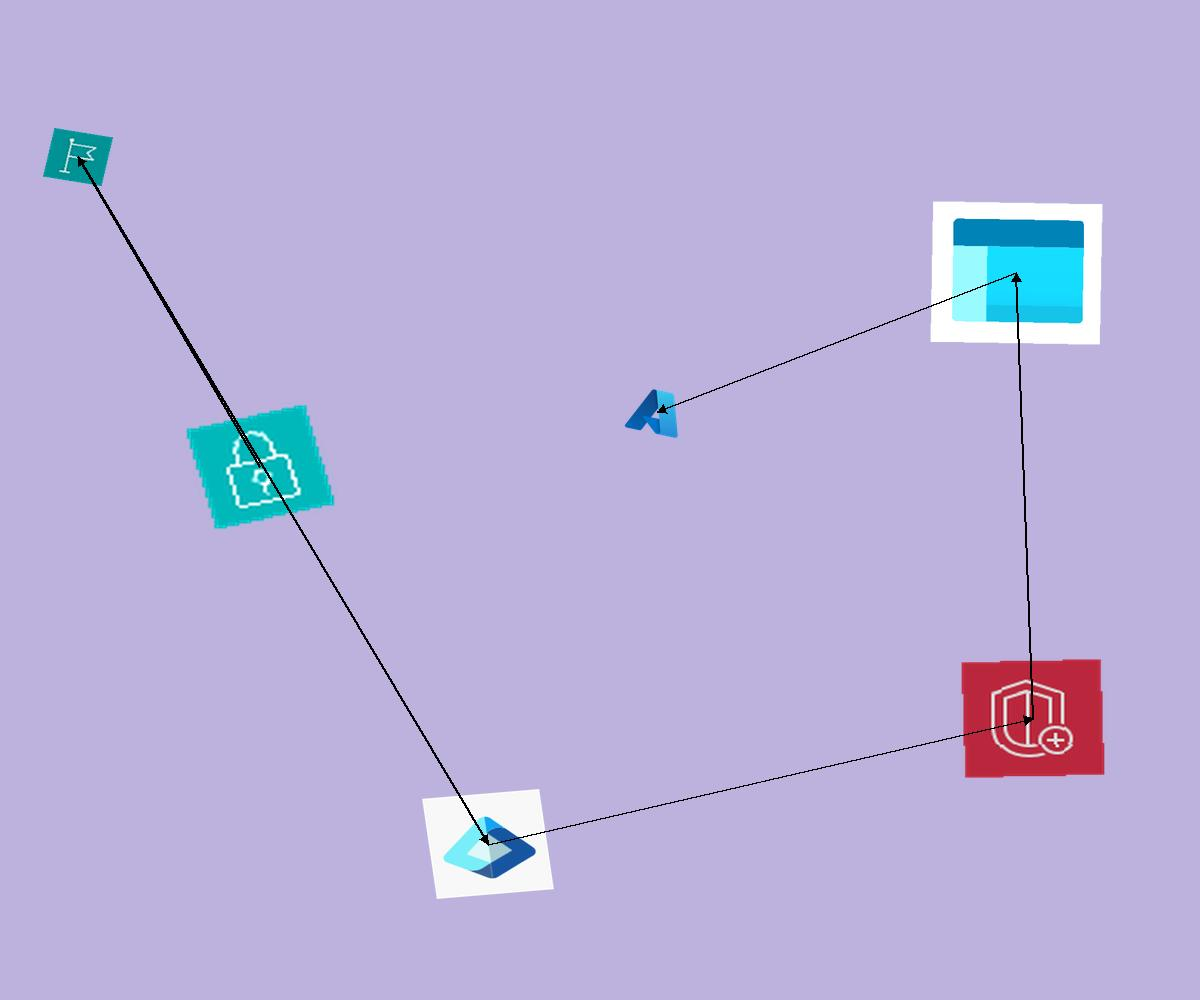AWS-Private-subnet: (184, 403, 337, 531)
AWS-Region: (43, 128, 113, 186)
AWS-Shield: (960, 658, 1106, 779)
Azure_management-portal: (930, 201, 1103, 345)
Azure_microsoft_entra: (422, 789, 554, 899)
Azure_services: (621, 382, 693, 442)
